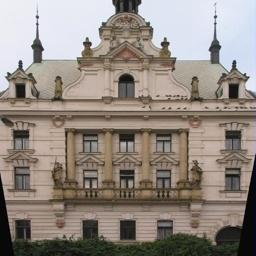building: (0, 0, 256, 233)
